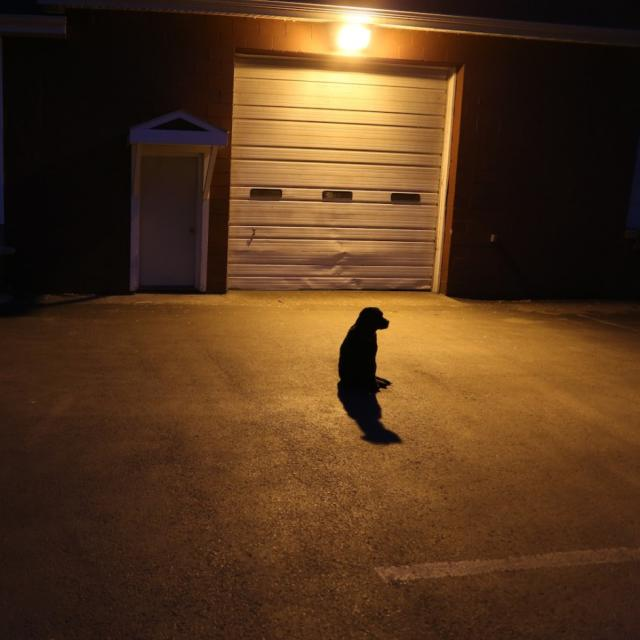Dog: (309, 290, 422, 442)
